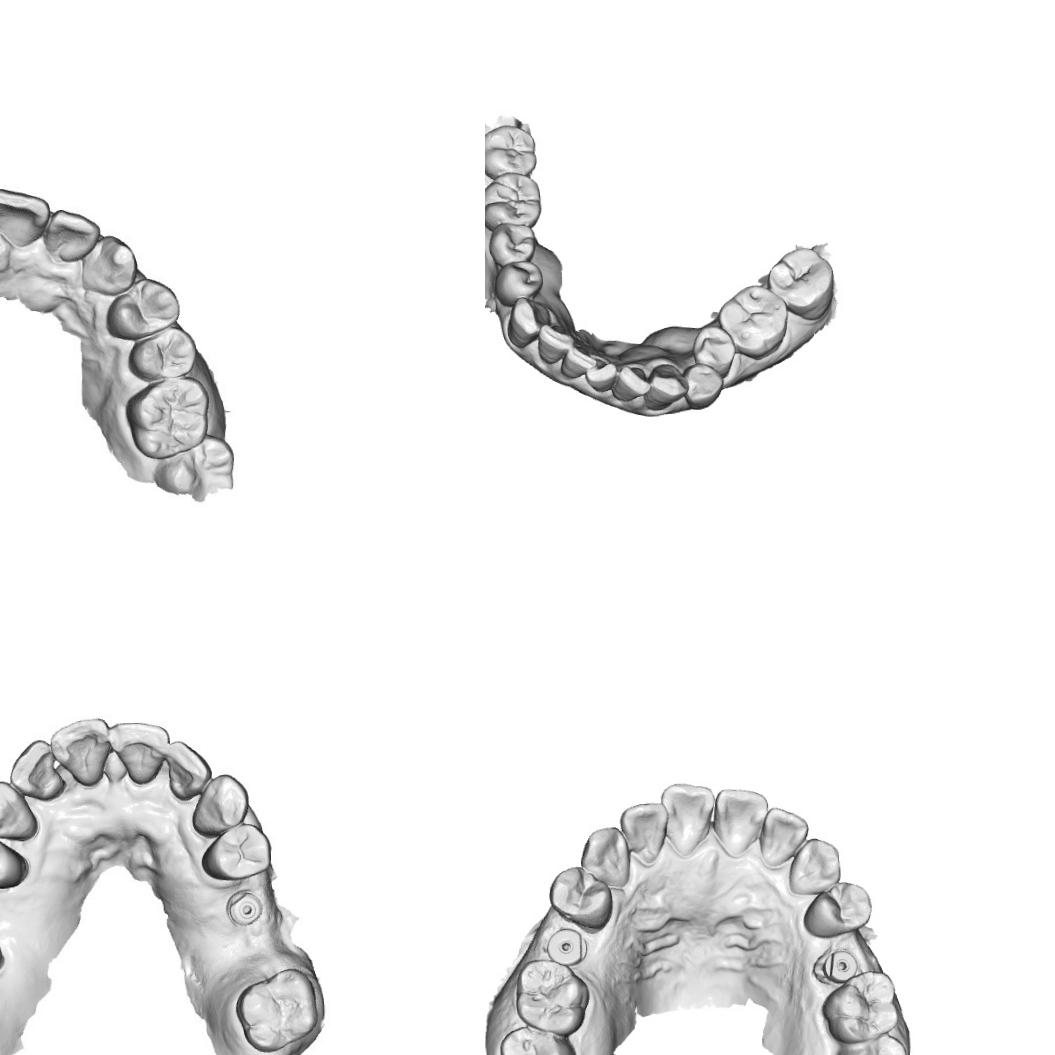canine: (189, 771, 248, 842), (578, 825, 632, 892), (80, 238, 137, 297), (786, 837, 842, 897), (505, 296, 552, 349), (642, 361, 690, 411), (0, 779, 35, 847)
implant: (224, 886, 267, 934), (545, 926, 589, 968), (820, 948, 859, 984)
incisor: (658, 780, 718, 858), (711, 786, 771, 860), (109, 720, 176, 786), (53, 722, 116, 788), (618, 801, 671, 868), (757, 805, 810, 868), (0, 185, 50, 245), (11, 744, 64, 798), (46, 206, 98, 261), (163, 740, 209, 792), (558, 341, 598, 380), (537, 322, 574, 364), (610, 365, 652, 402), (584, 352, 618, 393)
molar: (231, 964, 329, 1055), (124, 374, 220, 462), (513, 956, 591, 1037), (820, 968, 900, 1044), (717, 283, 790, 361), (765, 246, 836, 322), (485, 170, 542, 234), (485, 123, 537, 180), (497, 1023, 579, 1055), (827, 1030, 909, 1055)
premolar: (547, 864, 613, 932), (200, 822, 274, 880), (801, 880, 873, 939), (113, 282, 178, 336), (133, 332, 194, 376), (690, 324, 736, 380), (493, 259, 544, 308), (487, 221, 536, 268), (681, 360, 724, 410), (0, 831, 21, 886)
